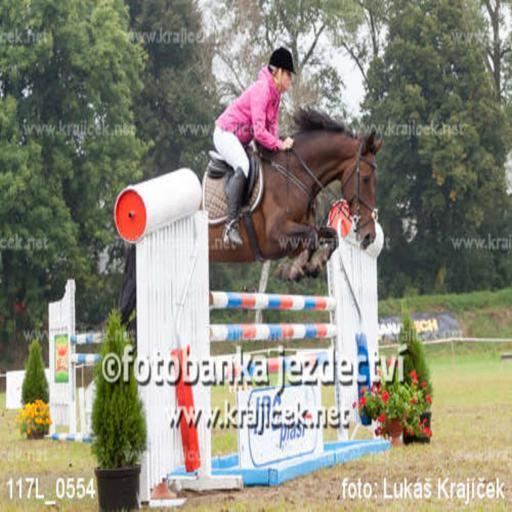horse: (118, 98, 378, 323)
